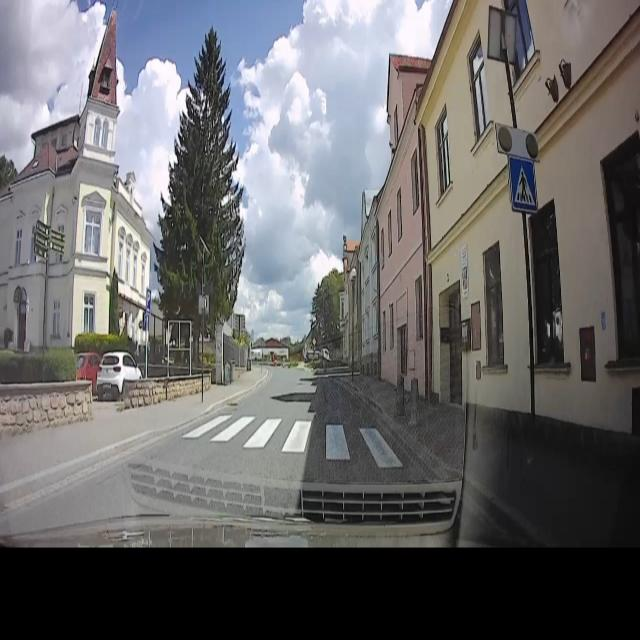Pedestrian crosswalk: (180, 407, 406, 471), (492, 120, 550, 228)
